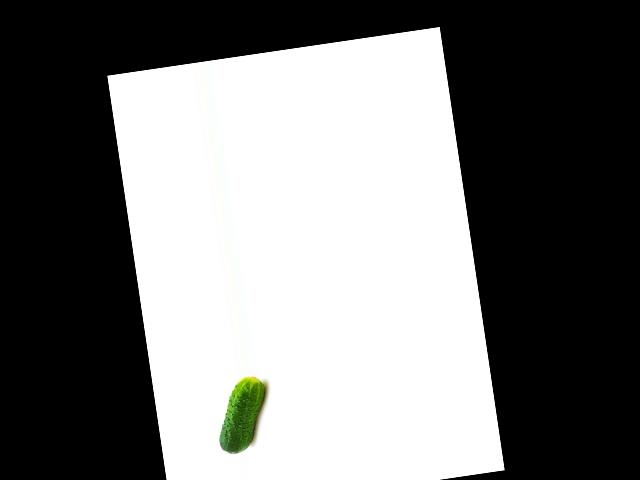cucumber: (210, 374, 273, 455)
